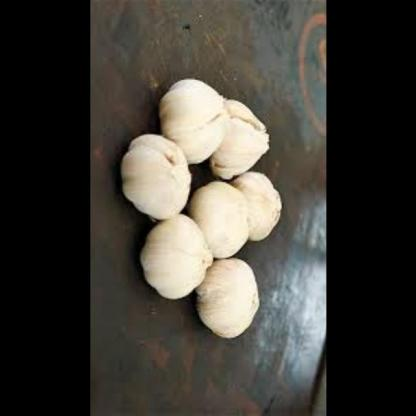garlic: (136, 214, 213, 303), (117, 132, 192, 221), (192, 255, 262, 343), (194, 176, 259, 261), (224, 161, 286, 250), (161, 83, 222, 162), (210, 99, 268, 179)
